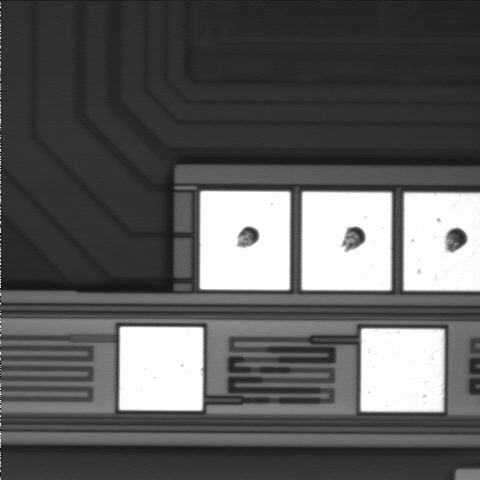pad: (200, 191, 290, 290), (302, 192, 392, 290), (119, 327, 203, 410), (361, 329, 444, 412)
